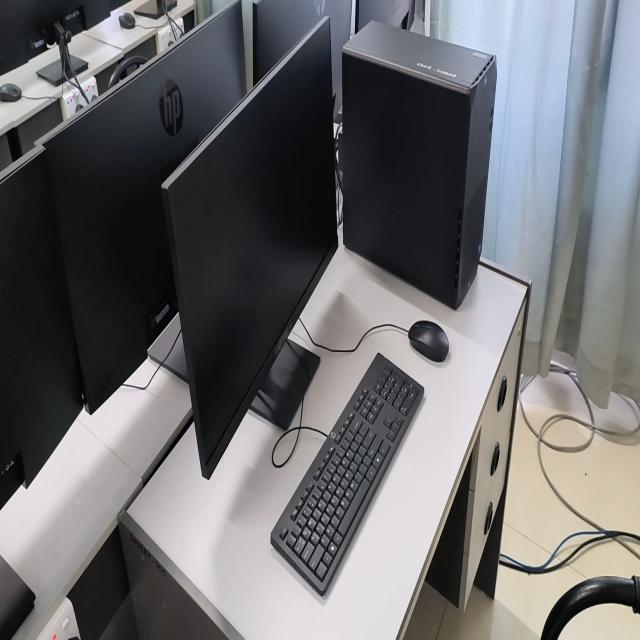Chair: (540, 576, 639, 640)
Cpu: (342, 21, 497, 309)
Keyboard: (271, 353, 424, 594)
Monitor: (44, 0, 245, 414), (163, 21, 338, 479), (0, 149, 84, 506), (252, 0, 351, 119), (0, 0, 130, 88), (355, 0, 411, 32), (134, 0, 177, 19)
Mouse: (408, 320, 449, 362), (0, 83, 22, 102), (119, 12, 136, 28)
